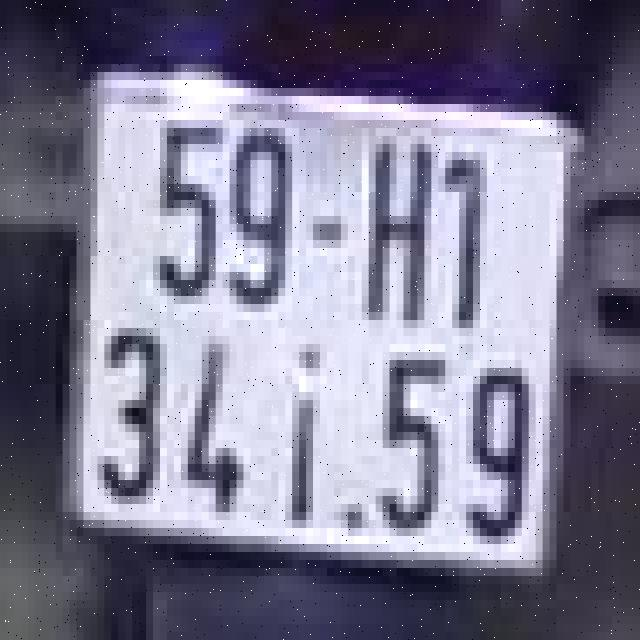1: (278, 344, 334, 528), (442, 148, 490, 340)
3: (97, 324, 167, 516)
4: (181, 340, 250, 524)
5: (150, 120, 226, 304), (376, 352, 452, 536)
9: (226, 128, 296, 312), (466, 364, 536, 548)
H: (355, 136, 431, 336)
